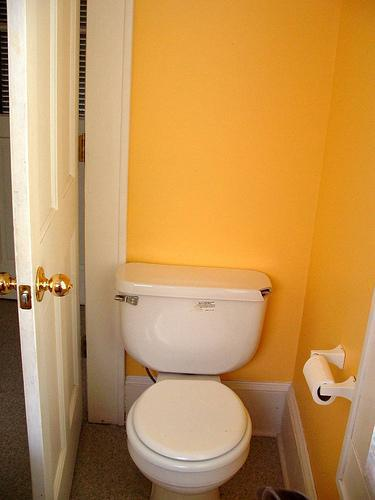Sanitario: (104, 266, 272, 493)
